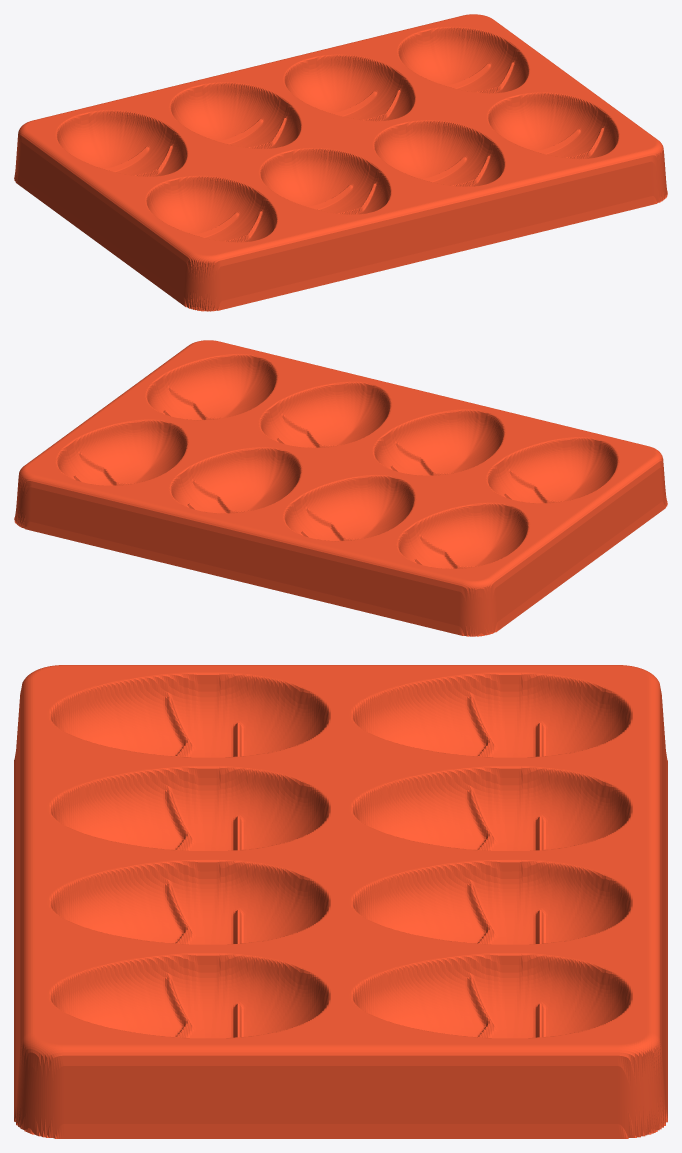
File: mold.glb
The picture shows the model from 3 angles, top to bottom: view 1: azimuth 30°, elevation 25°; view 2: azimuth 150°, elevation 25°; view 3: azimuth 270°, elevation 25°; orthographic projection. The views are drawn at different scales.
Parts seen in each view (by area): view 1: geometry_0; view 2: geometry_0; view 3: geometry_0.
Part boxes in pixels (left/top/right/bottom): geometry_0: left=14, top=14, right=667, bottom=311; geometry_0: left=14, top=340, right=667, bottom=636; geometry_0: left=14, top=665, right=667, bottom=1138.
Bounding box in the file's own units: 0.1729 × 0.0175 × 0.1209.
